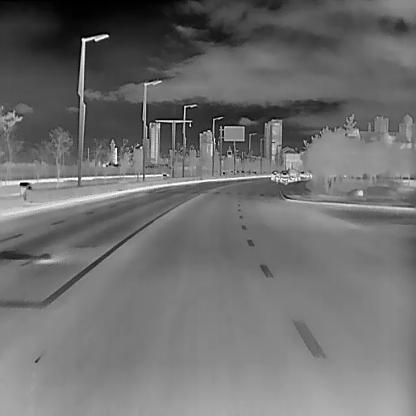car: (278, 170, 290, 183), (269, 169, 279, 180), (288, 168, 296, 180)
